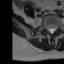CCS_normal: (50, 25, 52, 36)
LFS_normal: (55, 23, 57, 32)
LLS_normal: (52, 25, 55, 35)
RFS_normal: (45, 24, 48, 33)
RLS_normal: (48, 25, 50, 34)
